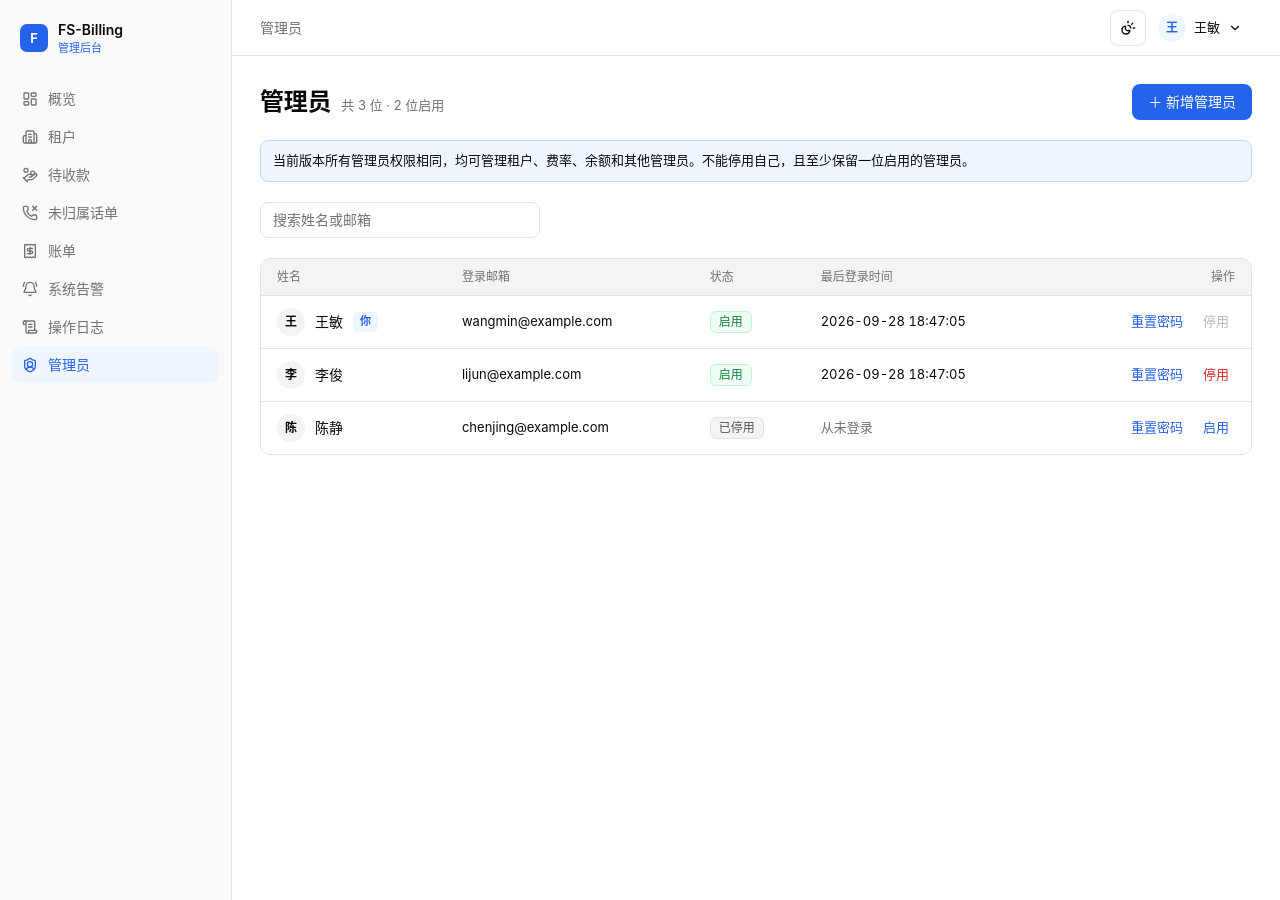
Test case: admin status and reset › a disable that changed nothing says so
Click the button with aria-label "停用 李俊": (1216, 374) [1197,358,1235,390]
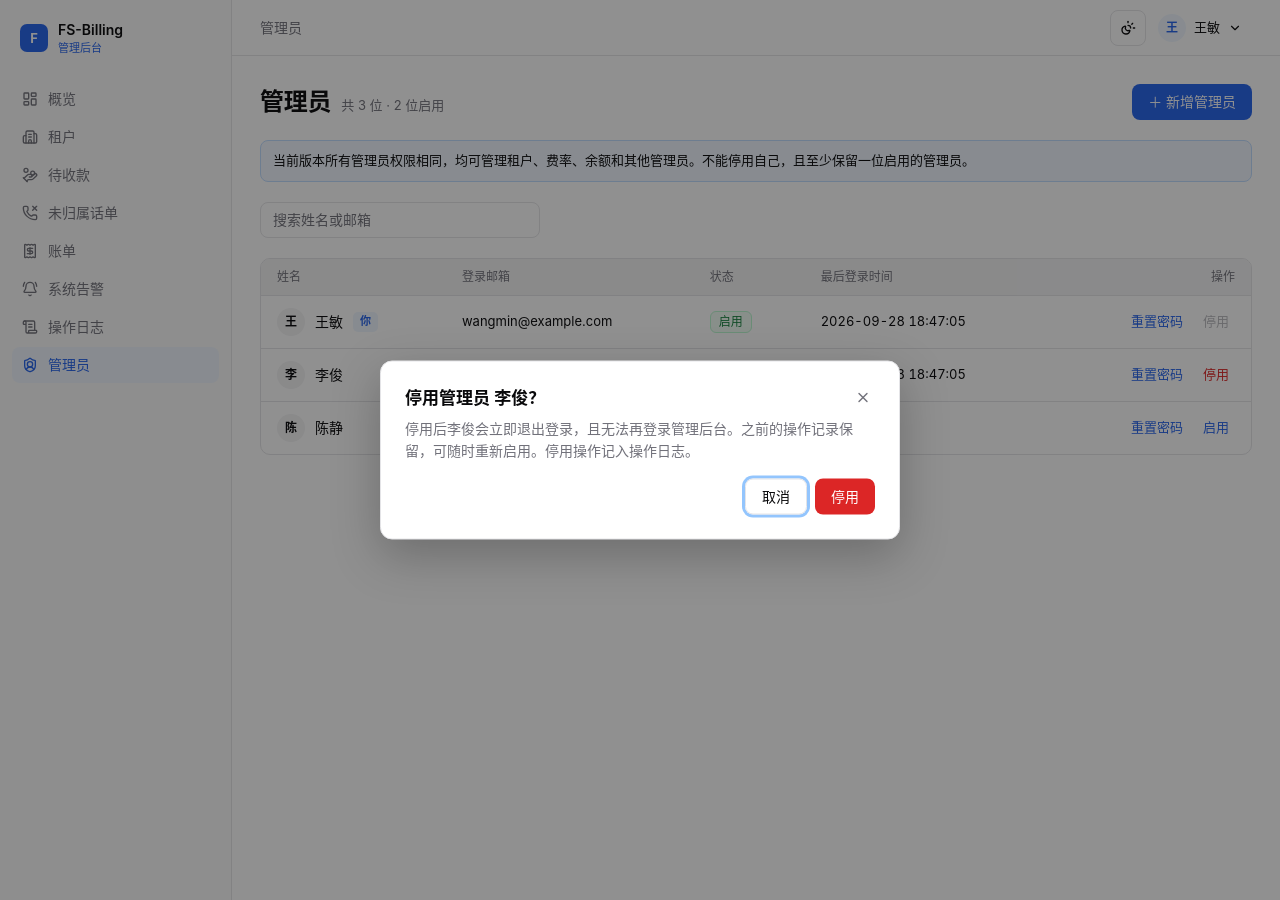
Click the button "停用": (845, 496) [815,478,875,514]
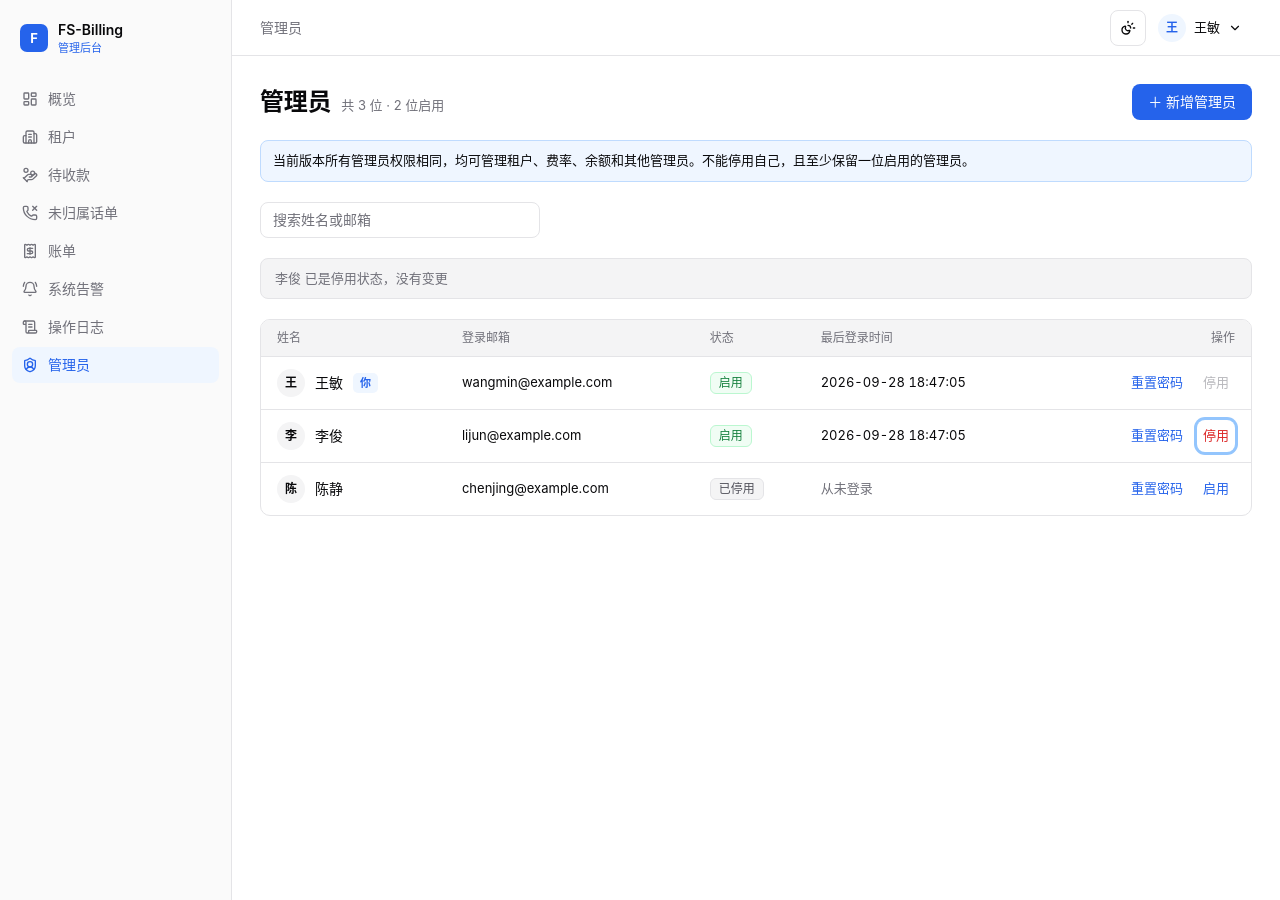
Result: the message reads "李俊 已是停用状态，没有变更" at [275,270,448,286]
